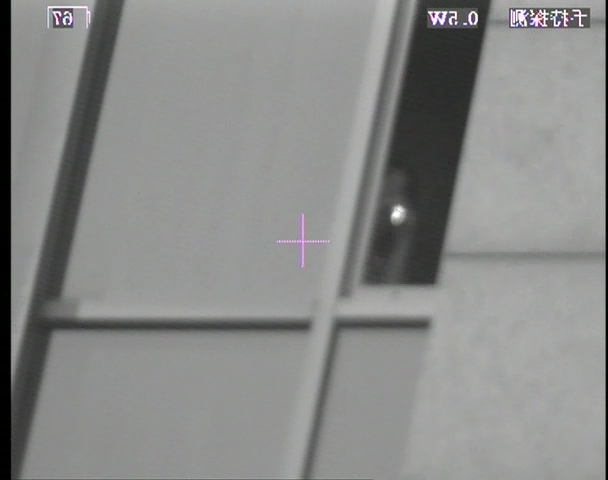my: (388, 203, 408, 226)
